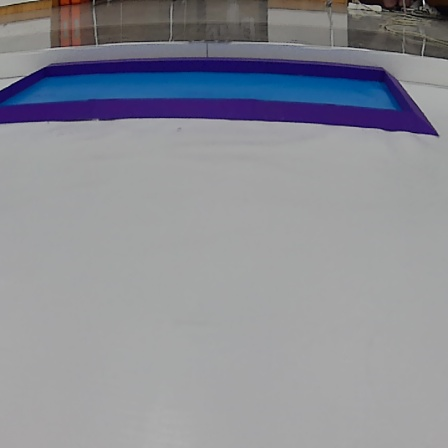blue_aim: (1, 54, 443, 143)
